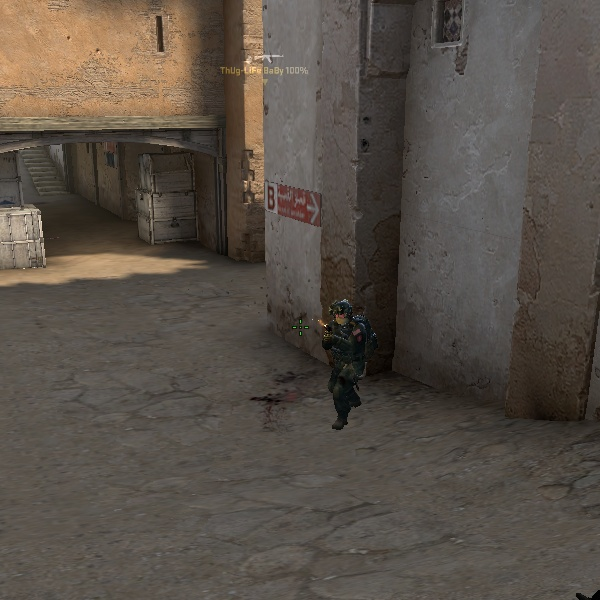ct_body: (319, 295, 372, 430)
ct_head: (325, 297, 356, 330)
